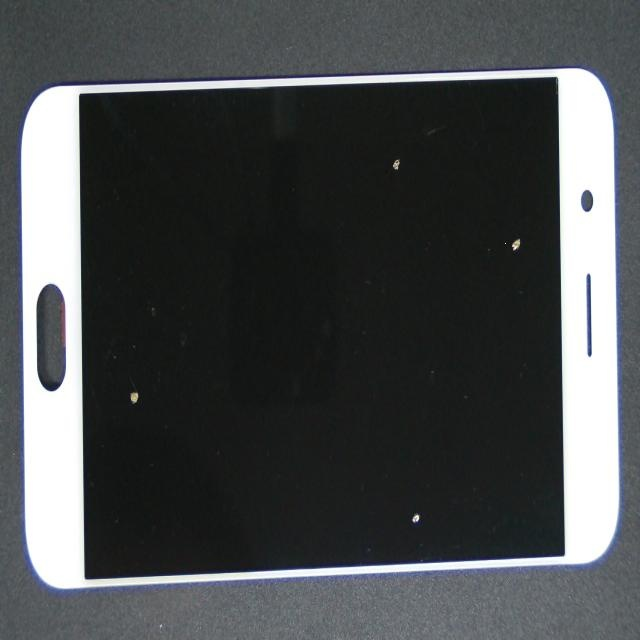stain: (231, 236, 627, 640), (246, 91, 640, 383), (23, 176, 181, 616), (209, 31, 585, 210)
